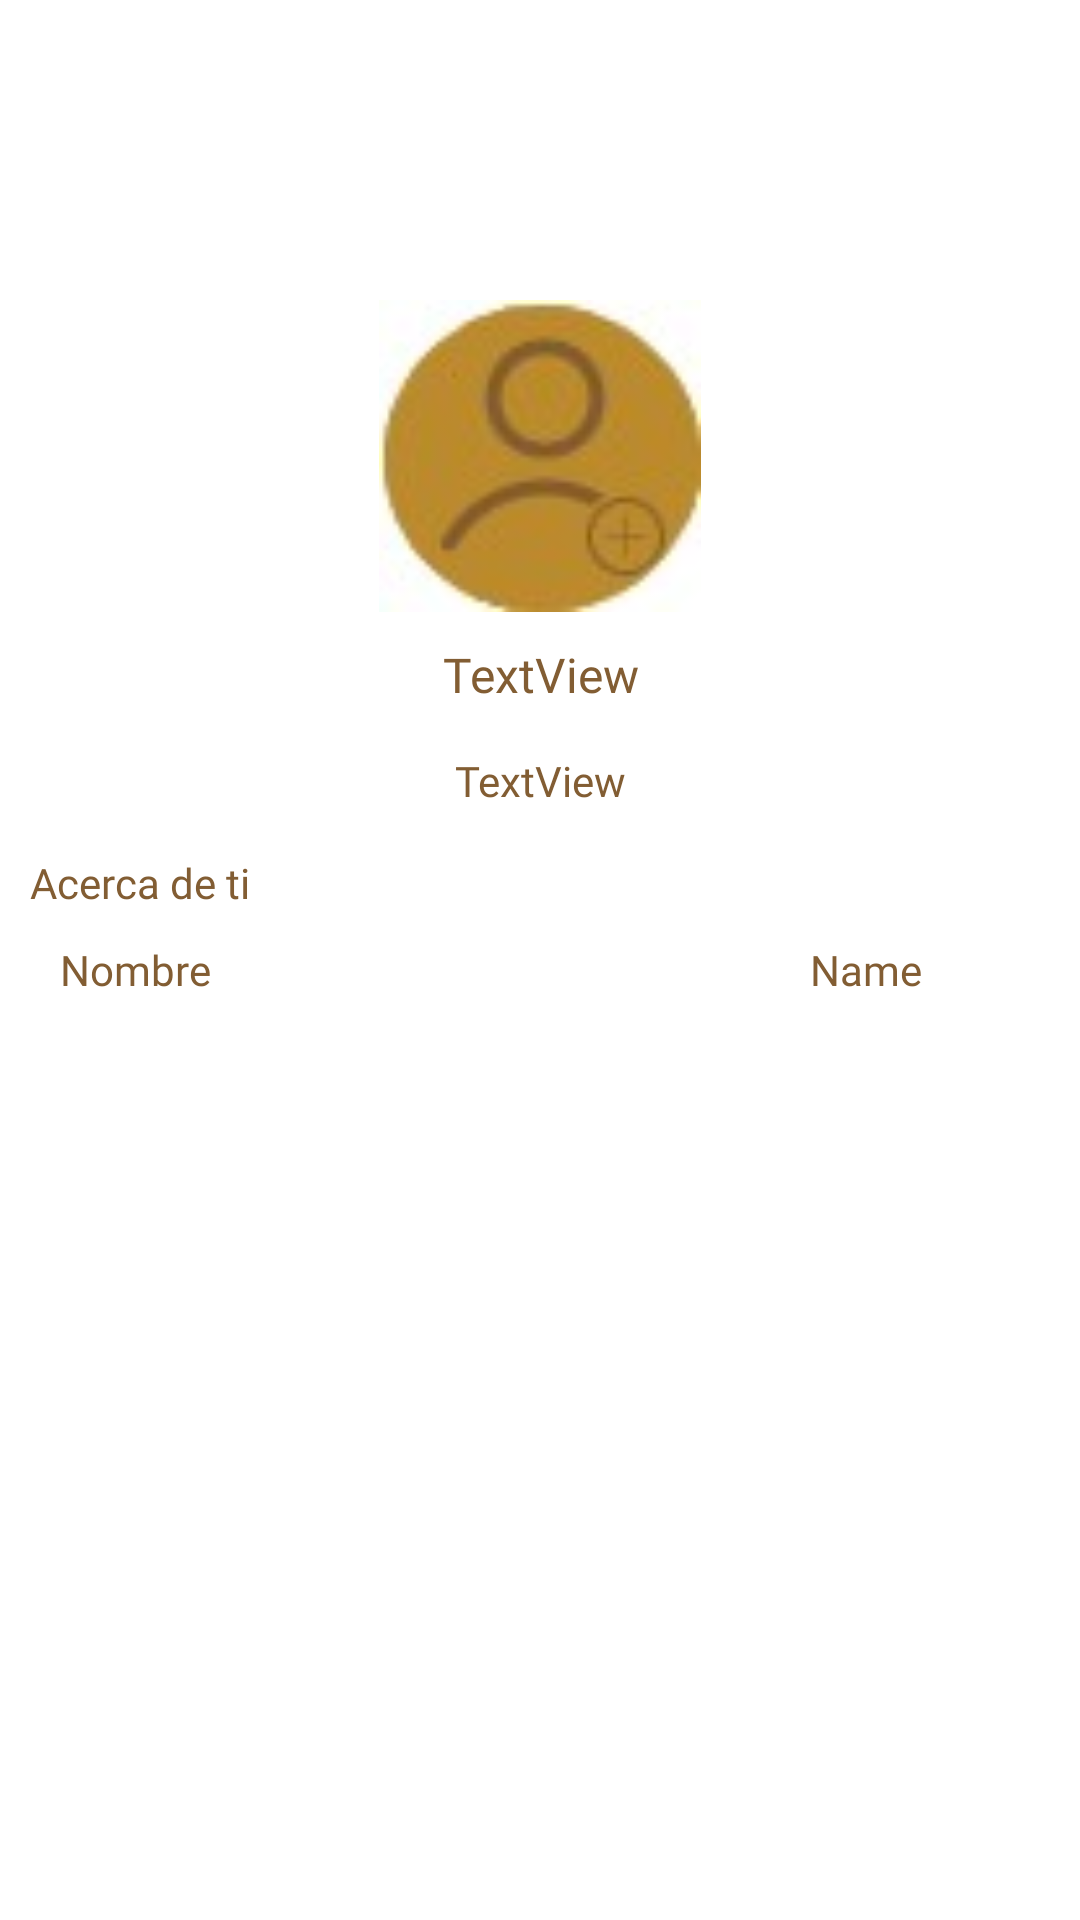

Where to tap for icons on this 1080*1920 app screen, as [x,y]:
usuarioconelmas: [540,456]
